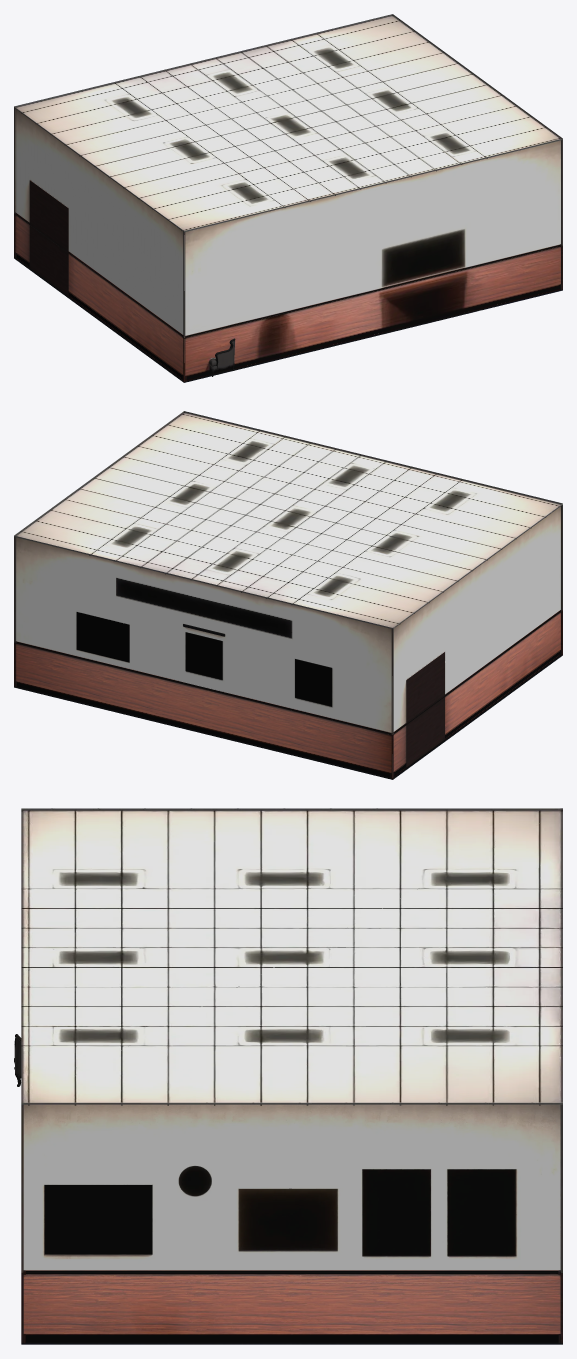
The model's file is club.glb.
The picture shows the model from 3 angles, top to bottom: view 1: azimuth 30°, elevation 25°; view 2: azimuth 150°, elevation 25°; view 3: azimuth 270°, elevation 25°; orthographic projection. The views are drawn at different scales.
Visible parts, largest first — view 1: bake_ceil, bake_wallB, bake_wallL, bake_props, bake_floor, bake_furn; view 2: bake_ceil, bake_wallF, bake_wallL, bake_board, bake_props, bake_floor; view 3: bake_ceil, bake_wallR, bake_floor, bake_wallB, bake_wallF.
Boxes of the visible parts, <box> form: bake_ceil: <box>14,14,562,232</box>; bake_wallB: <box>182,140,560,381</box>; bake_wallL: <box>15,109,186,381</box>; bake_props: <box>29,180,68,295</box>; bake_floor: <box>14,258,562,382</box>; bake_furn: <box>209,338,235,376</box>; bake_ceil: <box>14,411,562,629</box>; bake_wallF: <box>16,537,394,778</box>; bake_wallL: <box>390,506,561,778</box>; bake_board: <box>76,612,331,706</box>; bake_props: <box>406,652,444,767</box>; bake_floor: <box>14,655,562,779</box>; bake_ceil: <box>21,808,562,1105</box>; bake_wallR: <box>23,1104,560,1343</box>; bake_floor: <box>21,1343,562,1344</box>; bake_wallB: <box>21,1104,25,1343</box>; bake_wallF: <box>558,1104,562,1343</box>.
Size of the model in its own units: 9 by 3.45 by 7.09.
Materials: 9 (9 with a texture image).
